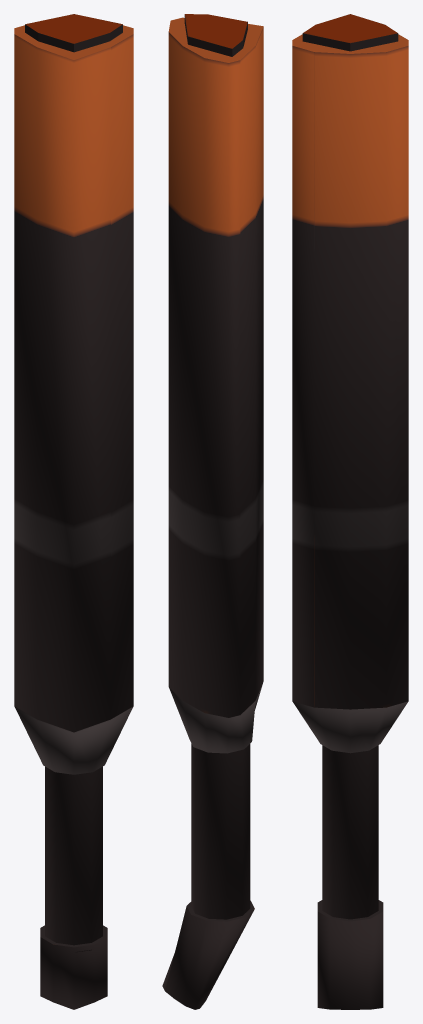
File: ReplikaStunBaton.fbx
3 views of the same model, side by side, from view 1: azimuth 90°, elevation 25°; view 2: azimuth 210°, elevation 25°; view 3: azimuth 270°, elevation 25° (orthographic). The views are drawn at different scales.
Visible parts, largest first — view 1: Baton.001; view 2: Baton.001; view 3: Baton.001.
Part boxes in pixels (x1=…): Baton.001: x1=14, y1=14, x2=133, y2=1009; Baton.001: x1=162, y1=14, x2=263, y2=1009; Baton.001: x1=292, y1=14, x2=408, y2=1009.
Bounding box in the file's own units: 0.5399 × 0.0525 × 0.0593.
